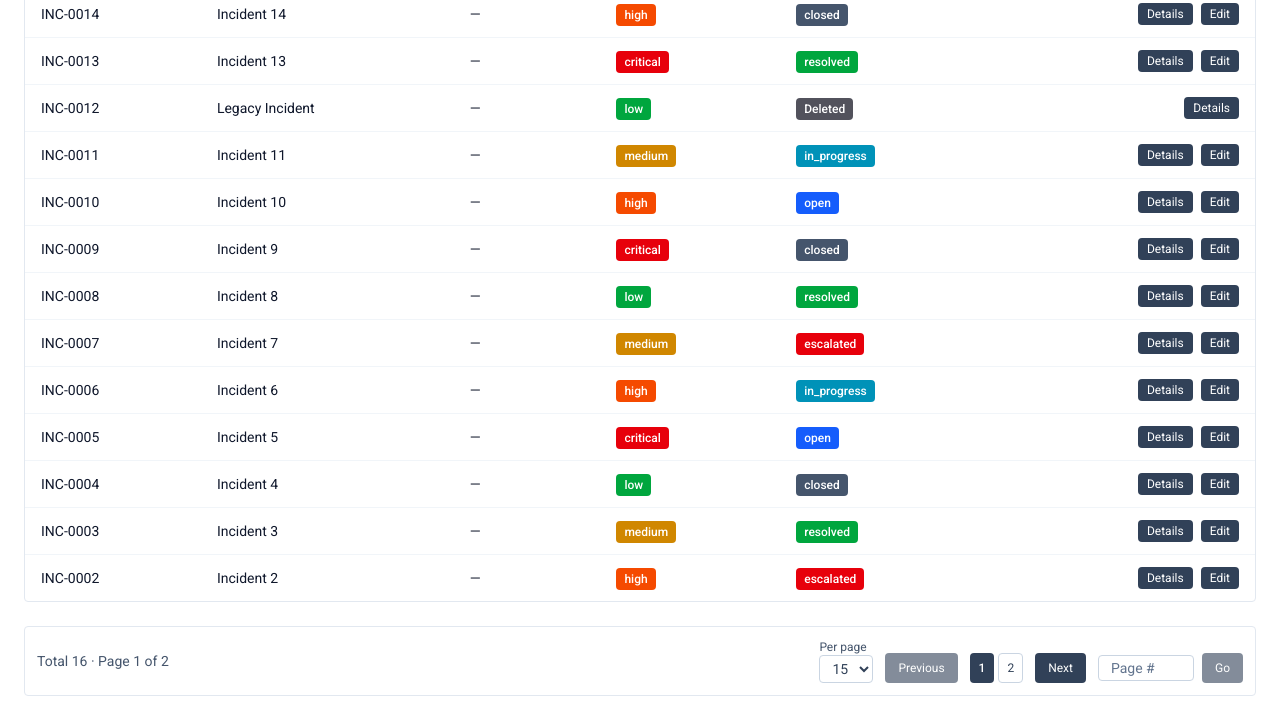
Test: Incidents page › renders incidents list, paginates and filters incidents by search
(page scrolled)
Check: the text "Legacy Incident" is shown, box [201,84,454,132]
Check: the text "Total 16 · Page 1 of 2" is shown, box [37,651,169,671]
Click the button "Next".
click(1061, 668)  # box [1035,653,1086,683]
(page scrolled)
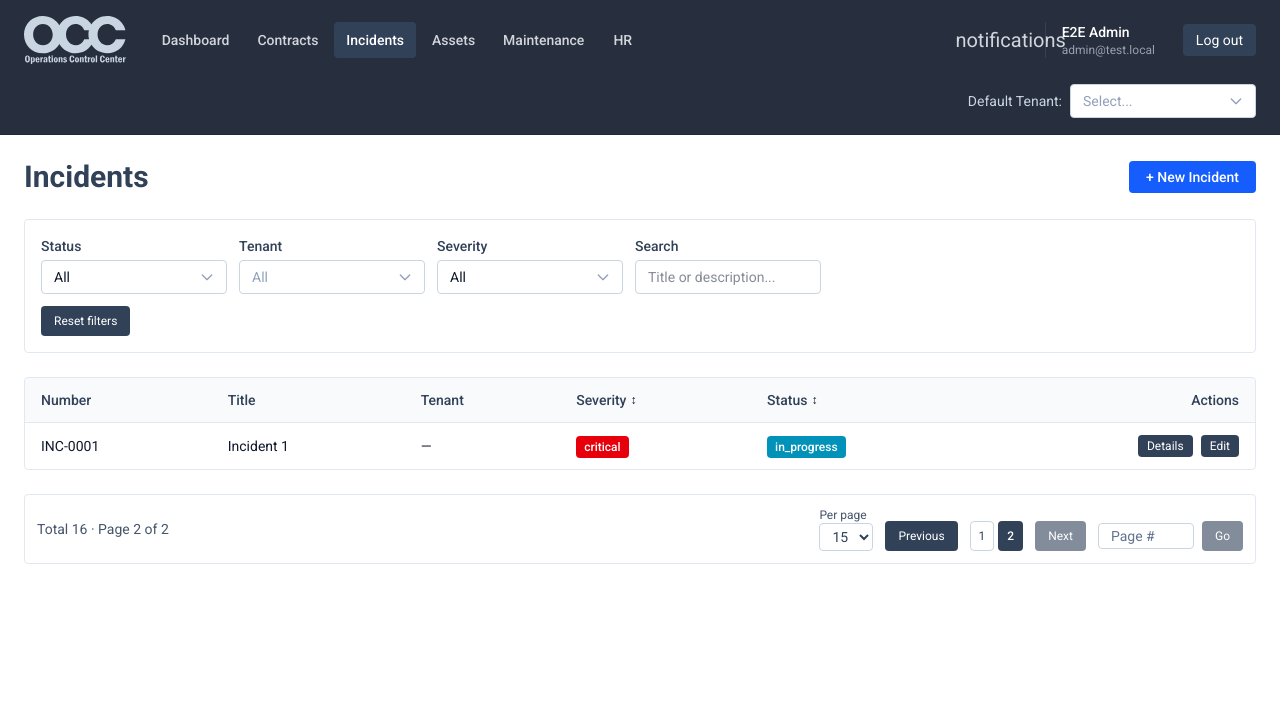
Check: the text "Incident 1" is shown, box [212,422,405,469]
Check: the text "Total 16 · Page 2 of 2" is shown, box [37,519,169,539]
Type "Legacy" into the field with placeholder "Title or description...".
click(728, 277); type("Legacy")  # box [635,260,821,294]
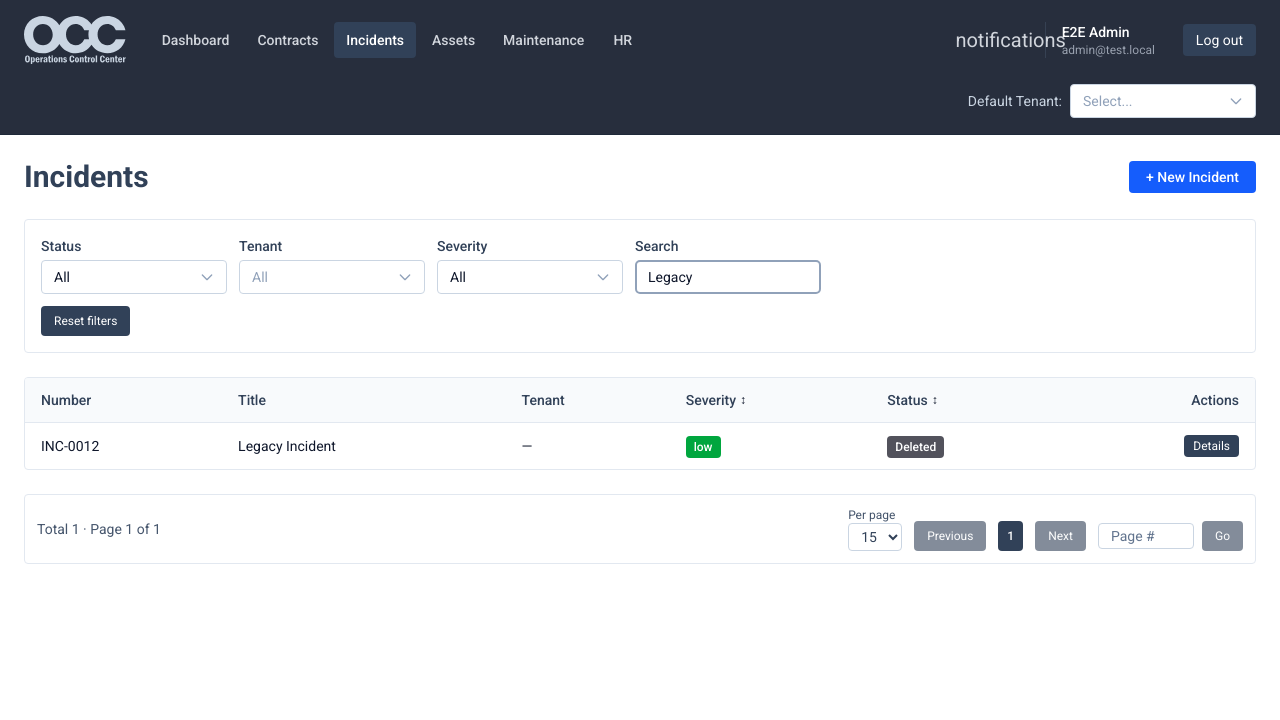
Check: the button "Details" is shown, box [1184,435,1239,457]
Check: the text "Total 1 · Page 1 of 1" is shown, box [37,519,161,539]
Check: the text "Deleted" is shown, box [887,436,944,458]
